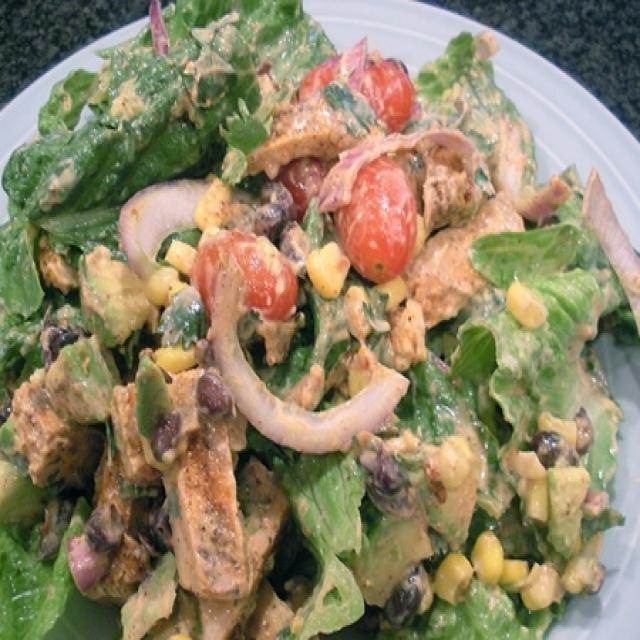鸡肉料理 含炸鸡: (13, 22, 587, 618)
